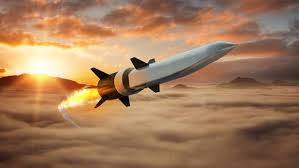ten_lua: (85, 38, 237, 103)
